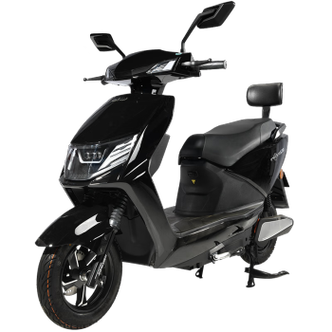摩托车: (28, 1, 301, 330)
